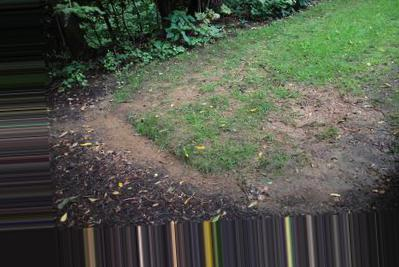patch: (275, 105, 370, 187), (104, 116, 153, 167)
